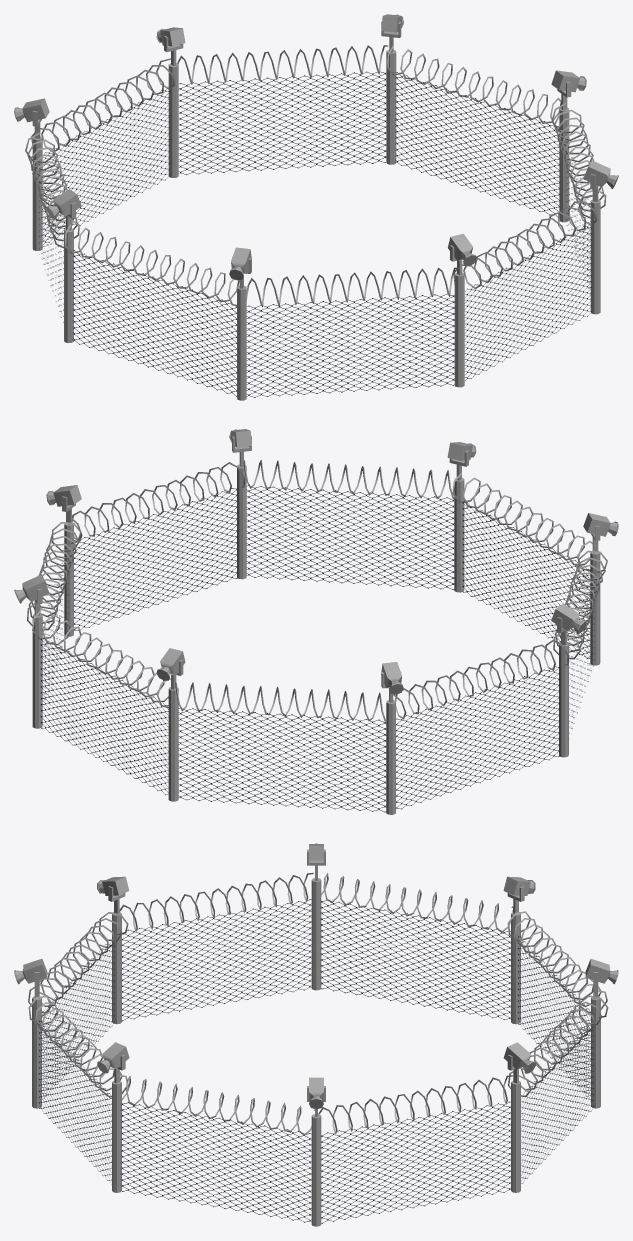
The model's file is Area_51_envir_barbedwire_d0.fbx.
3 views of the same model, one above another, from view 1: azimuth 30°, elevation 25°; view 2: azimuth 150°, elevation 25°; view 3: azimuth 270°, elevation 25° (orthographic). The views are drawn at different scales.
Visible parts, largest first — view 1: polySurface41, polySurface60, polySurface40, polySurface49, polySurface48, polySurface54, polySurface52, polySurface55, polySurface50, polySurface51, polySurface53; view 2: polySurface41, polySurface60, polySurface40, polySurface49, polySurface50, polySurface51, polySurface48, polySurface53, polySurface54, polySurface52, polySurface55; view 3: polySurface41, polySurface60, polySurface40, polySurface53, polySurface55, polySurface51, polySurface52, polySurface54, polySurface50, polySurface48.
Part boxes in pixels (left/top/right/bottom): polySurface41: left=38, top=71, right=592, bottom=397; polySurface60: left=25, top=45, right=606, bottom=307; polySurface40: left=32, top=50, right=600, bottom=400; polySurface49: left=46, top=189, right=81, bottom=230; polySurface48: left=551, top=70, right=586, bottom=109; polySurface54: left=448, top=233, right=476, bottom=275; polySurface52: left=14, top=98, right=49, bottom=138; polySurface55: left=583, top=160, right=618, bottom=201; polySurface50: left=156, top=27, right=185, bottom=65; polySurface51: left=229, top=247, right=251, bottom=288; polySurface53: left=381, top=14, right=403, bottom=52; polySurface41: left=40, top=485, right=594, bottom=812; polySurface60: left=27, top=460, right=607, bottom=721; polySurface40: left=32, top=464, right=600, bottom=814; polySurface49: left=551, top=603, right=586, bottom=645; polySurface50: left=156, top=648, right=185, bottom=689; polySurface51: left=583, top=513, right=618, bottom=553; polySurface48: left=46, top=485, right=81, bottom=524; polySurface53: left=14, top=575, right=49, bottom=616; polySurface54: left=447, top=442, right=476, bottom=480; polySurface52: left=381, top=662, right=403, bottom=702; polySurface55: left=229, top=429, right=251, bottom=467; polySurface41: left=38, top=899, right=594, bottom=1223; polySurface60: left=28, top=872, right=608, bottom=1135; polySurface40: left=32, top=878, right=600, bottom=1226; polySurface53: left=503, top=1042, right=535, bottom=1083; polySurface55: left=97, top=1042, right=129, bottom=1083; polySurface51: left=97, top=876, right=129, bottom=913; polySurface52: left=503, top=876, right=535, bottom=913; polySurface54: left=14, top=959, right=47, bottom=998; polySurface50: left=585, top=959, right=618, bottom=998; polySurface48: left=307, top=1077, right=325, bottom=1116.
Bounding box in the file's own units: 15.16 × 4 × 15.16.
2 materials, 1 textured.
